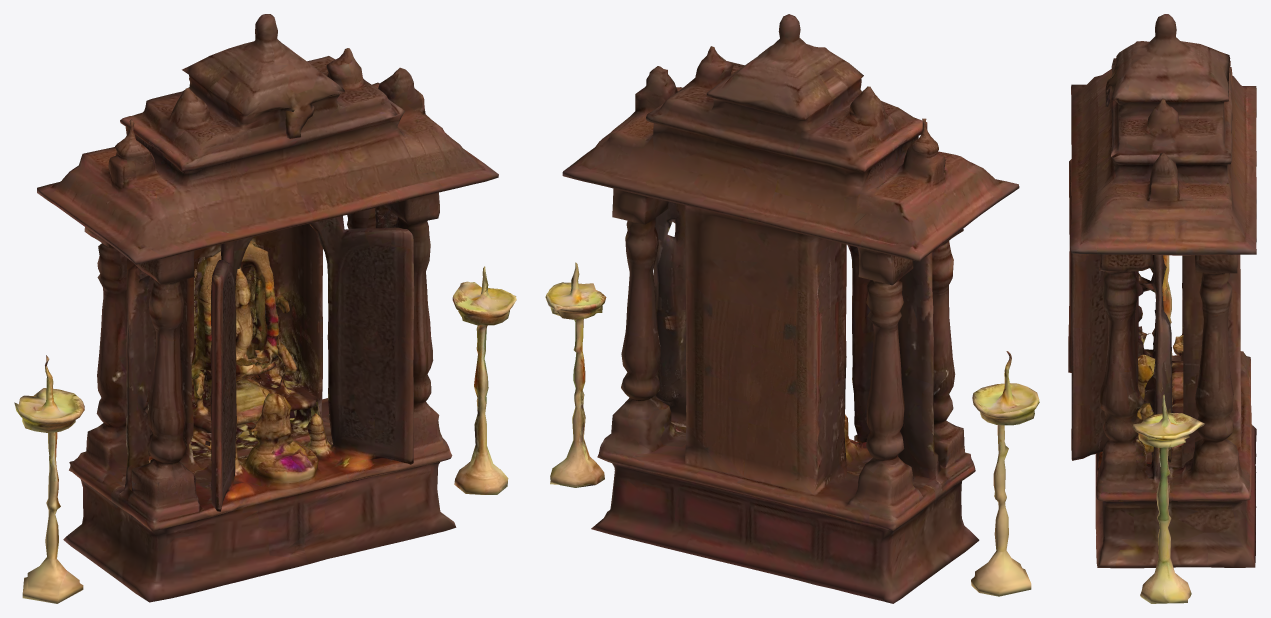
The model's file is mandir_teak.glb.
The picture shows the model from 3 angles, left to right: view 1: azimuth 30°, elevation 25°; view 2: azimuth 150°, elevation 25°; view 3: azimuth 270°, elevation 25°; orthographic projection. The views are drawn at different scales.
Parts seen in each view (by area): view 1: Object_4; view 2: Object_4; view 3: Object_4.
Boxes of the visible parts, x1,y1,x2,y2 form: Object_4: (14, 14, 516, 603); Object_4: (545, 14, 1039, 603); Object_4: (1068, 14, 1256, 603).
Size of the model in its own units: 1.22 by 1.24 by 0.4364.
1 material, 1 textured.
